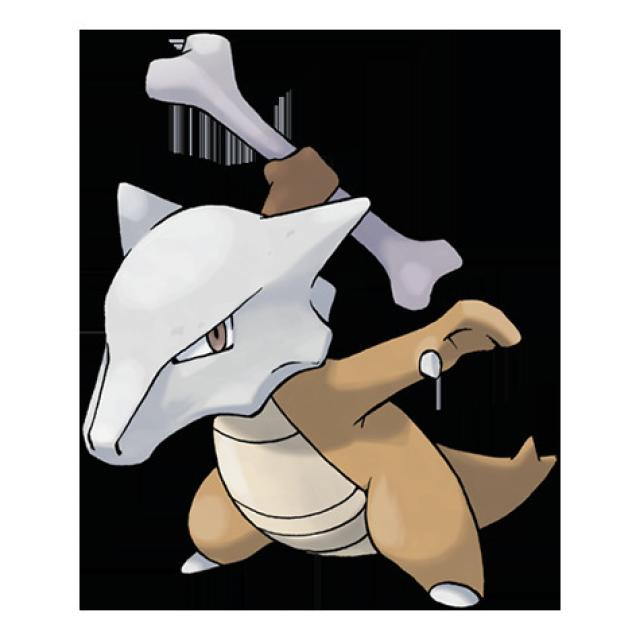Marowak: (97, 117, 533, 571)
